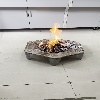fire: (40, 23, 65, 52)
